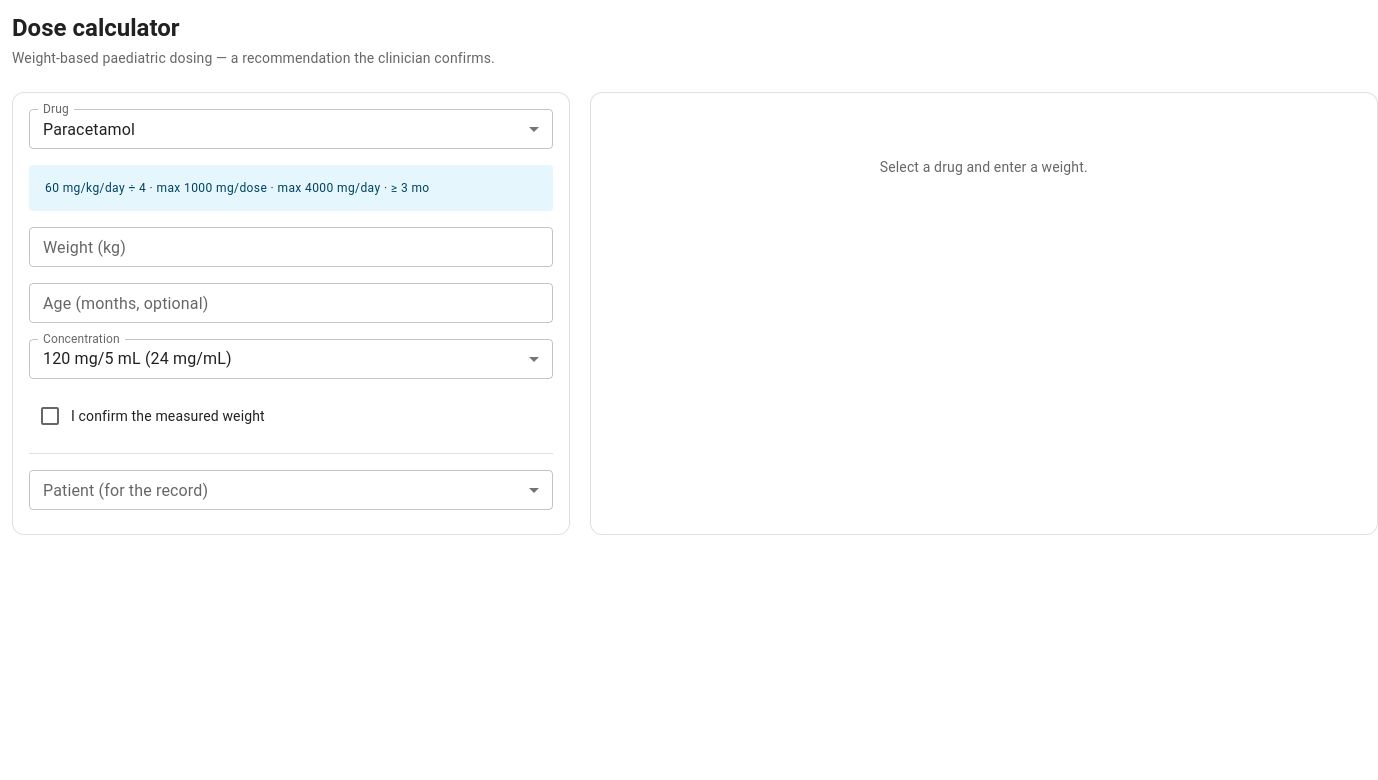
it: a dose that was not recorded says so on the screen that ordered it › says the server was never reached, rather than inventing a reason
Expected: the dropdown named "Drug" reads "Paracetamol", x1=43 y1=120 x2=135 y2=138
Type "14" into the number field labelled "Weight (kg)" at (291, 247), box x1=29 y1=227 x2=552 y2=267
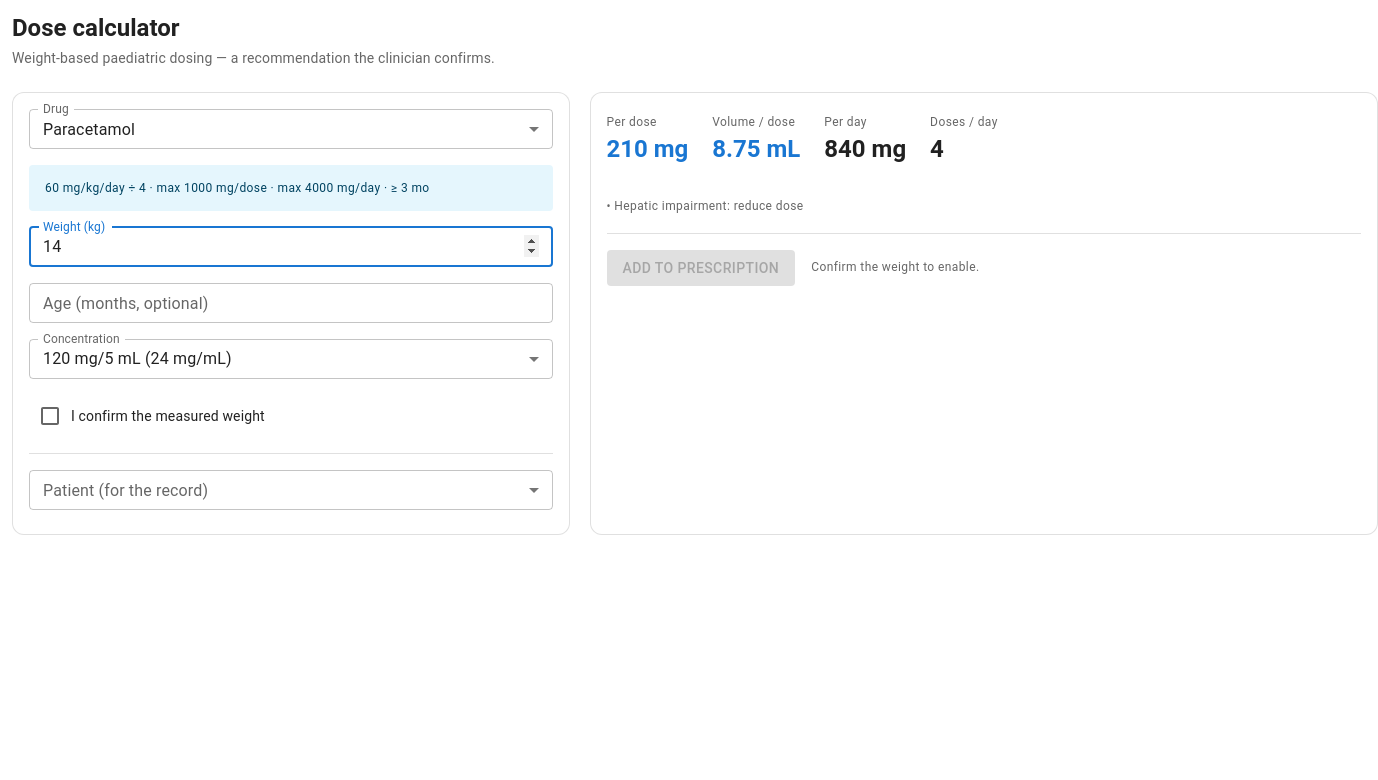
Now the heading "210 mg" is shown, box x1=606 y1=133 x2=688 y2=165
Click the checkbox labelled "I confirm the measured weight" at (151, 416), box x1=38 y1=404 x2=265 y2=428
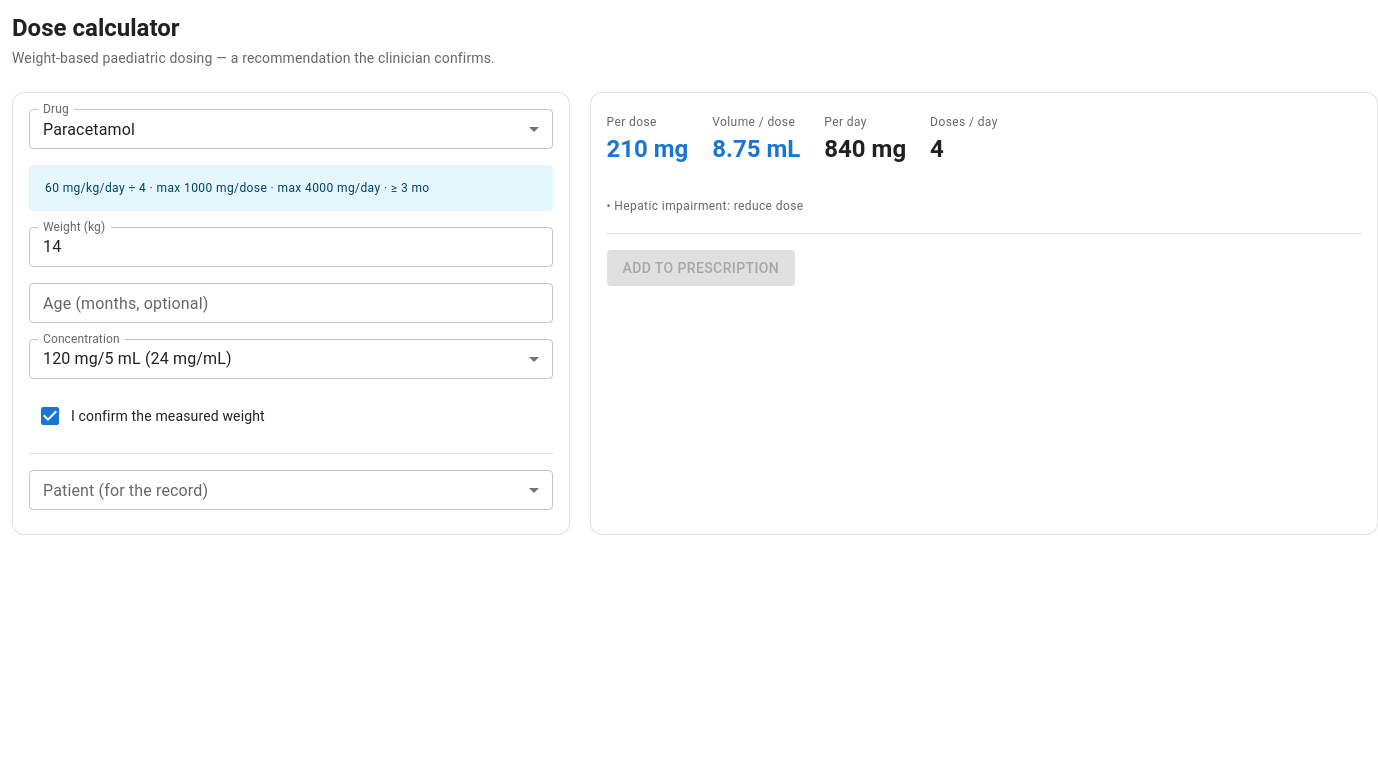
Click the dropdown named "Patient" at (291, 490), box x1=29 y1=470 x2=552 y2=510
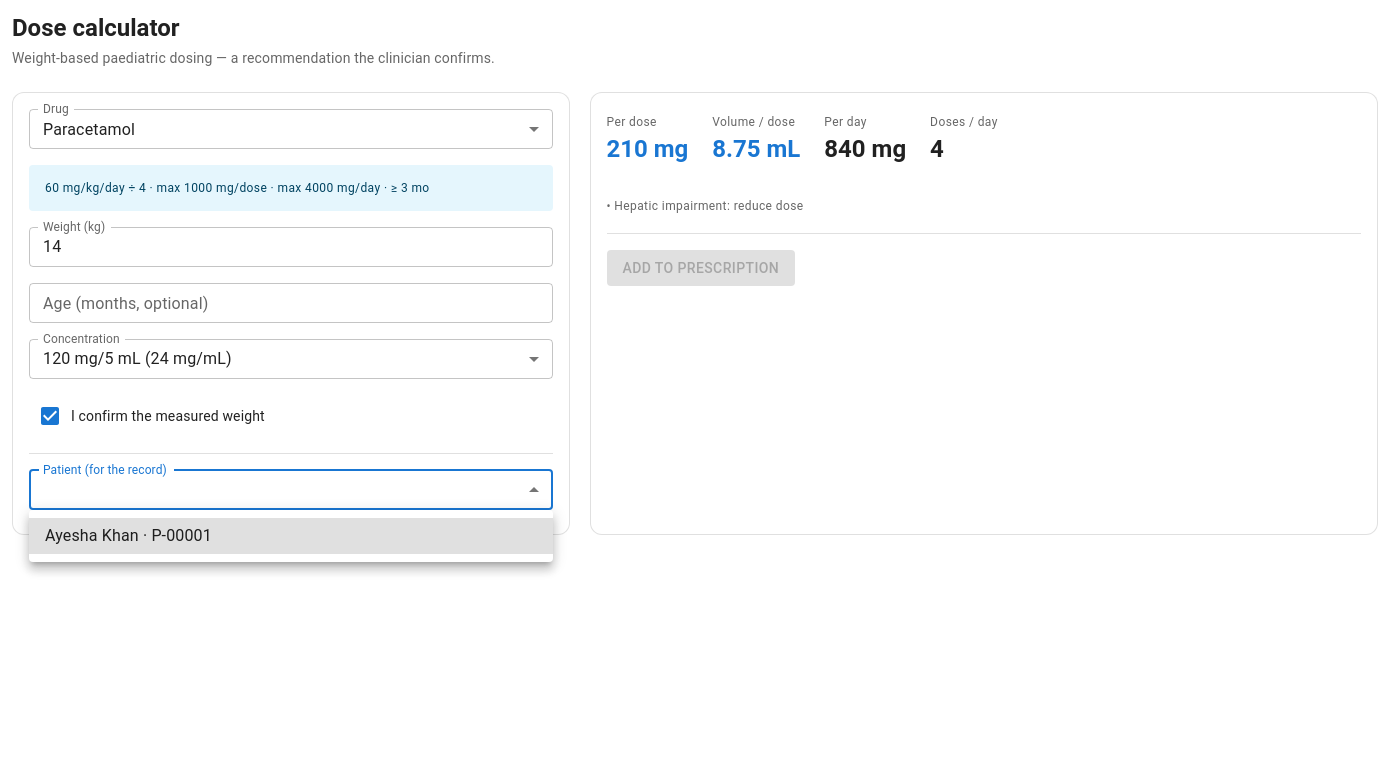
Click the option "Ayesha Khan · P-00001" at (92, 536), box x1=29 y1=518 x2=553 y2=554
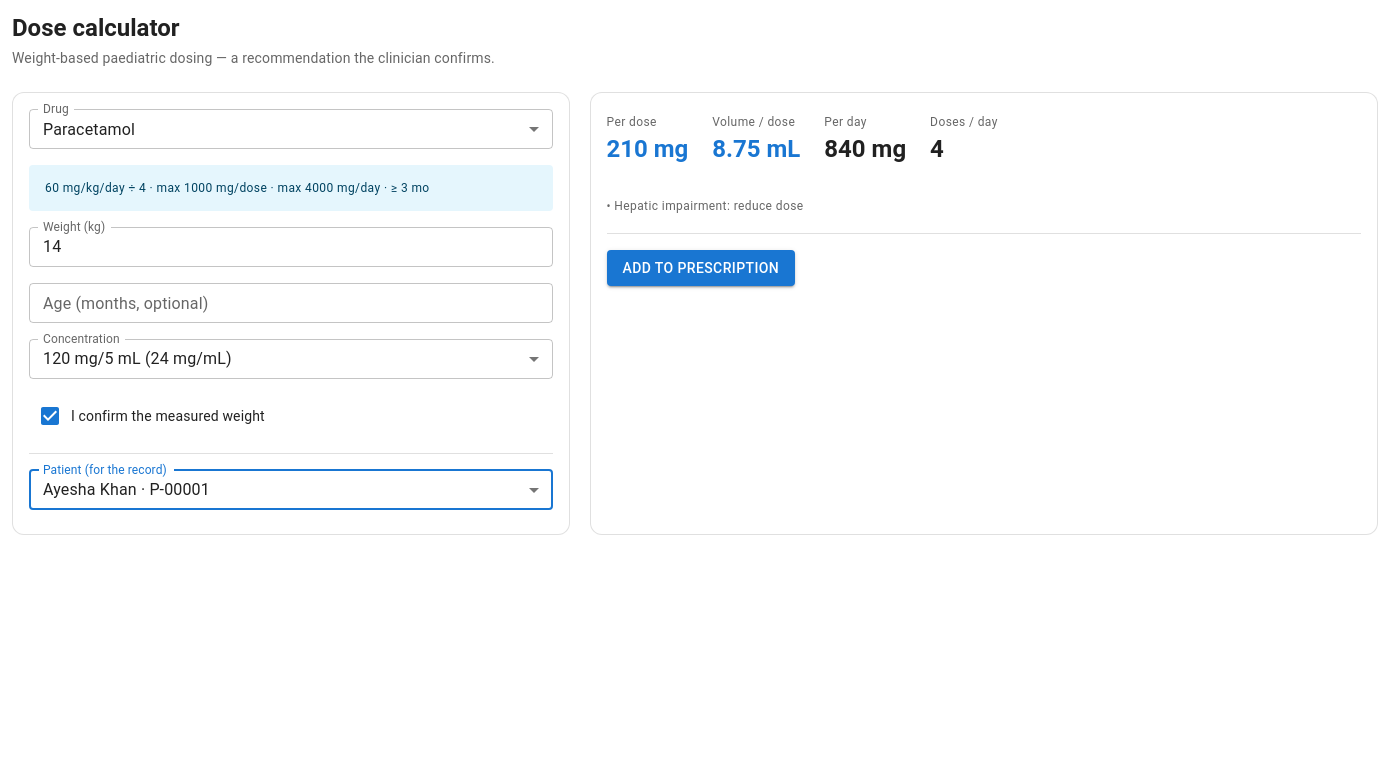
Click the button "Add to prescription" at (701, 268), box x1=606 y1=250 x2=795 y2=286
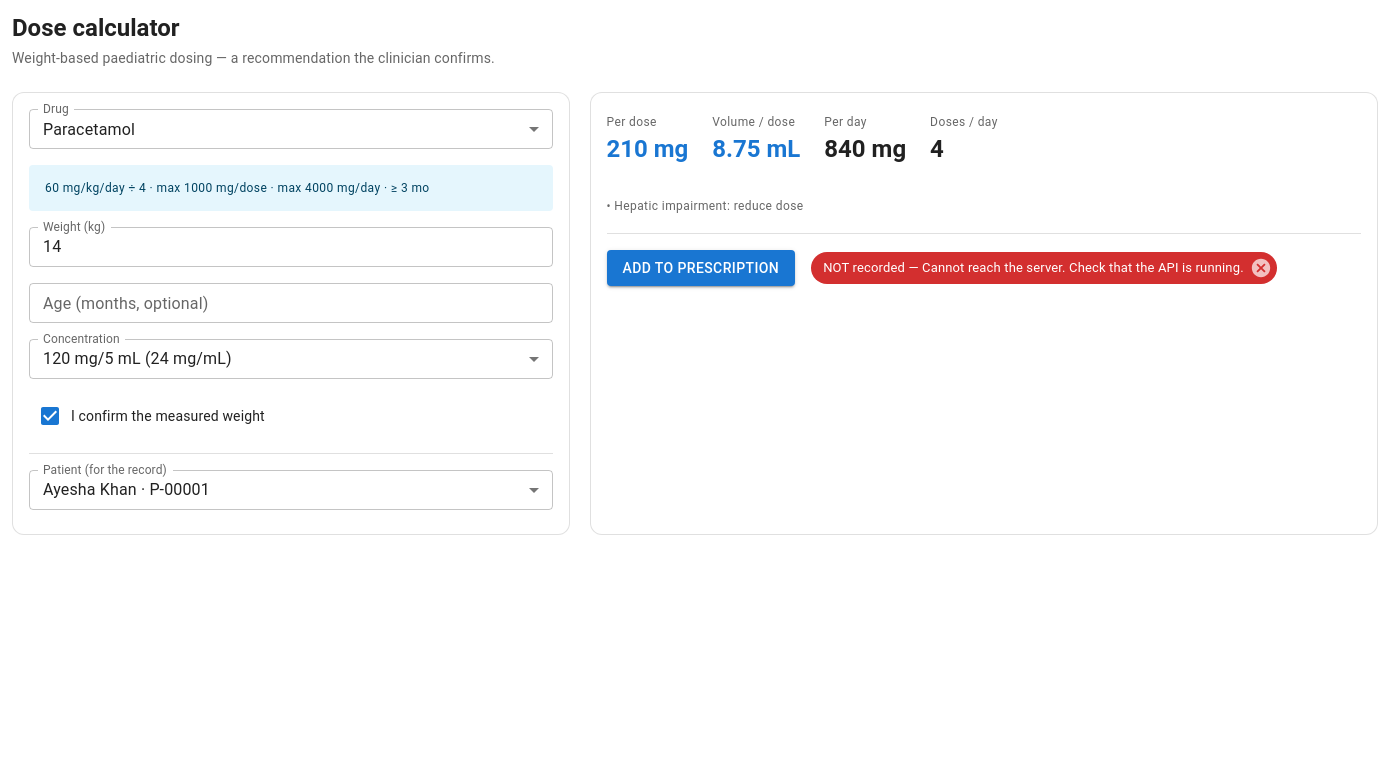
Now the text "NOT recorded — Cannot reach the server" is shown, box x1=823 y1=260 x2=1244 y2=276
